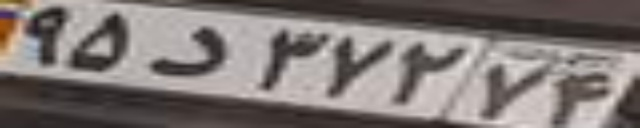2: (391, 39, 463, 105)
3: (255, 25, 327, 94)
4: (549, 67, 614, 126)
5: (65, 8, 131, 70)
7: (478, 59, 553, 122), (329, 31, 392, 100)
9: (23, 7, 62, 67)
dal: (147, 24, 228, 78)
